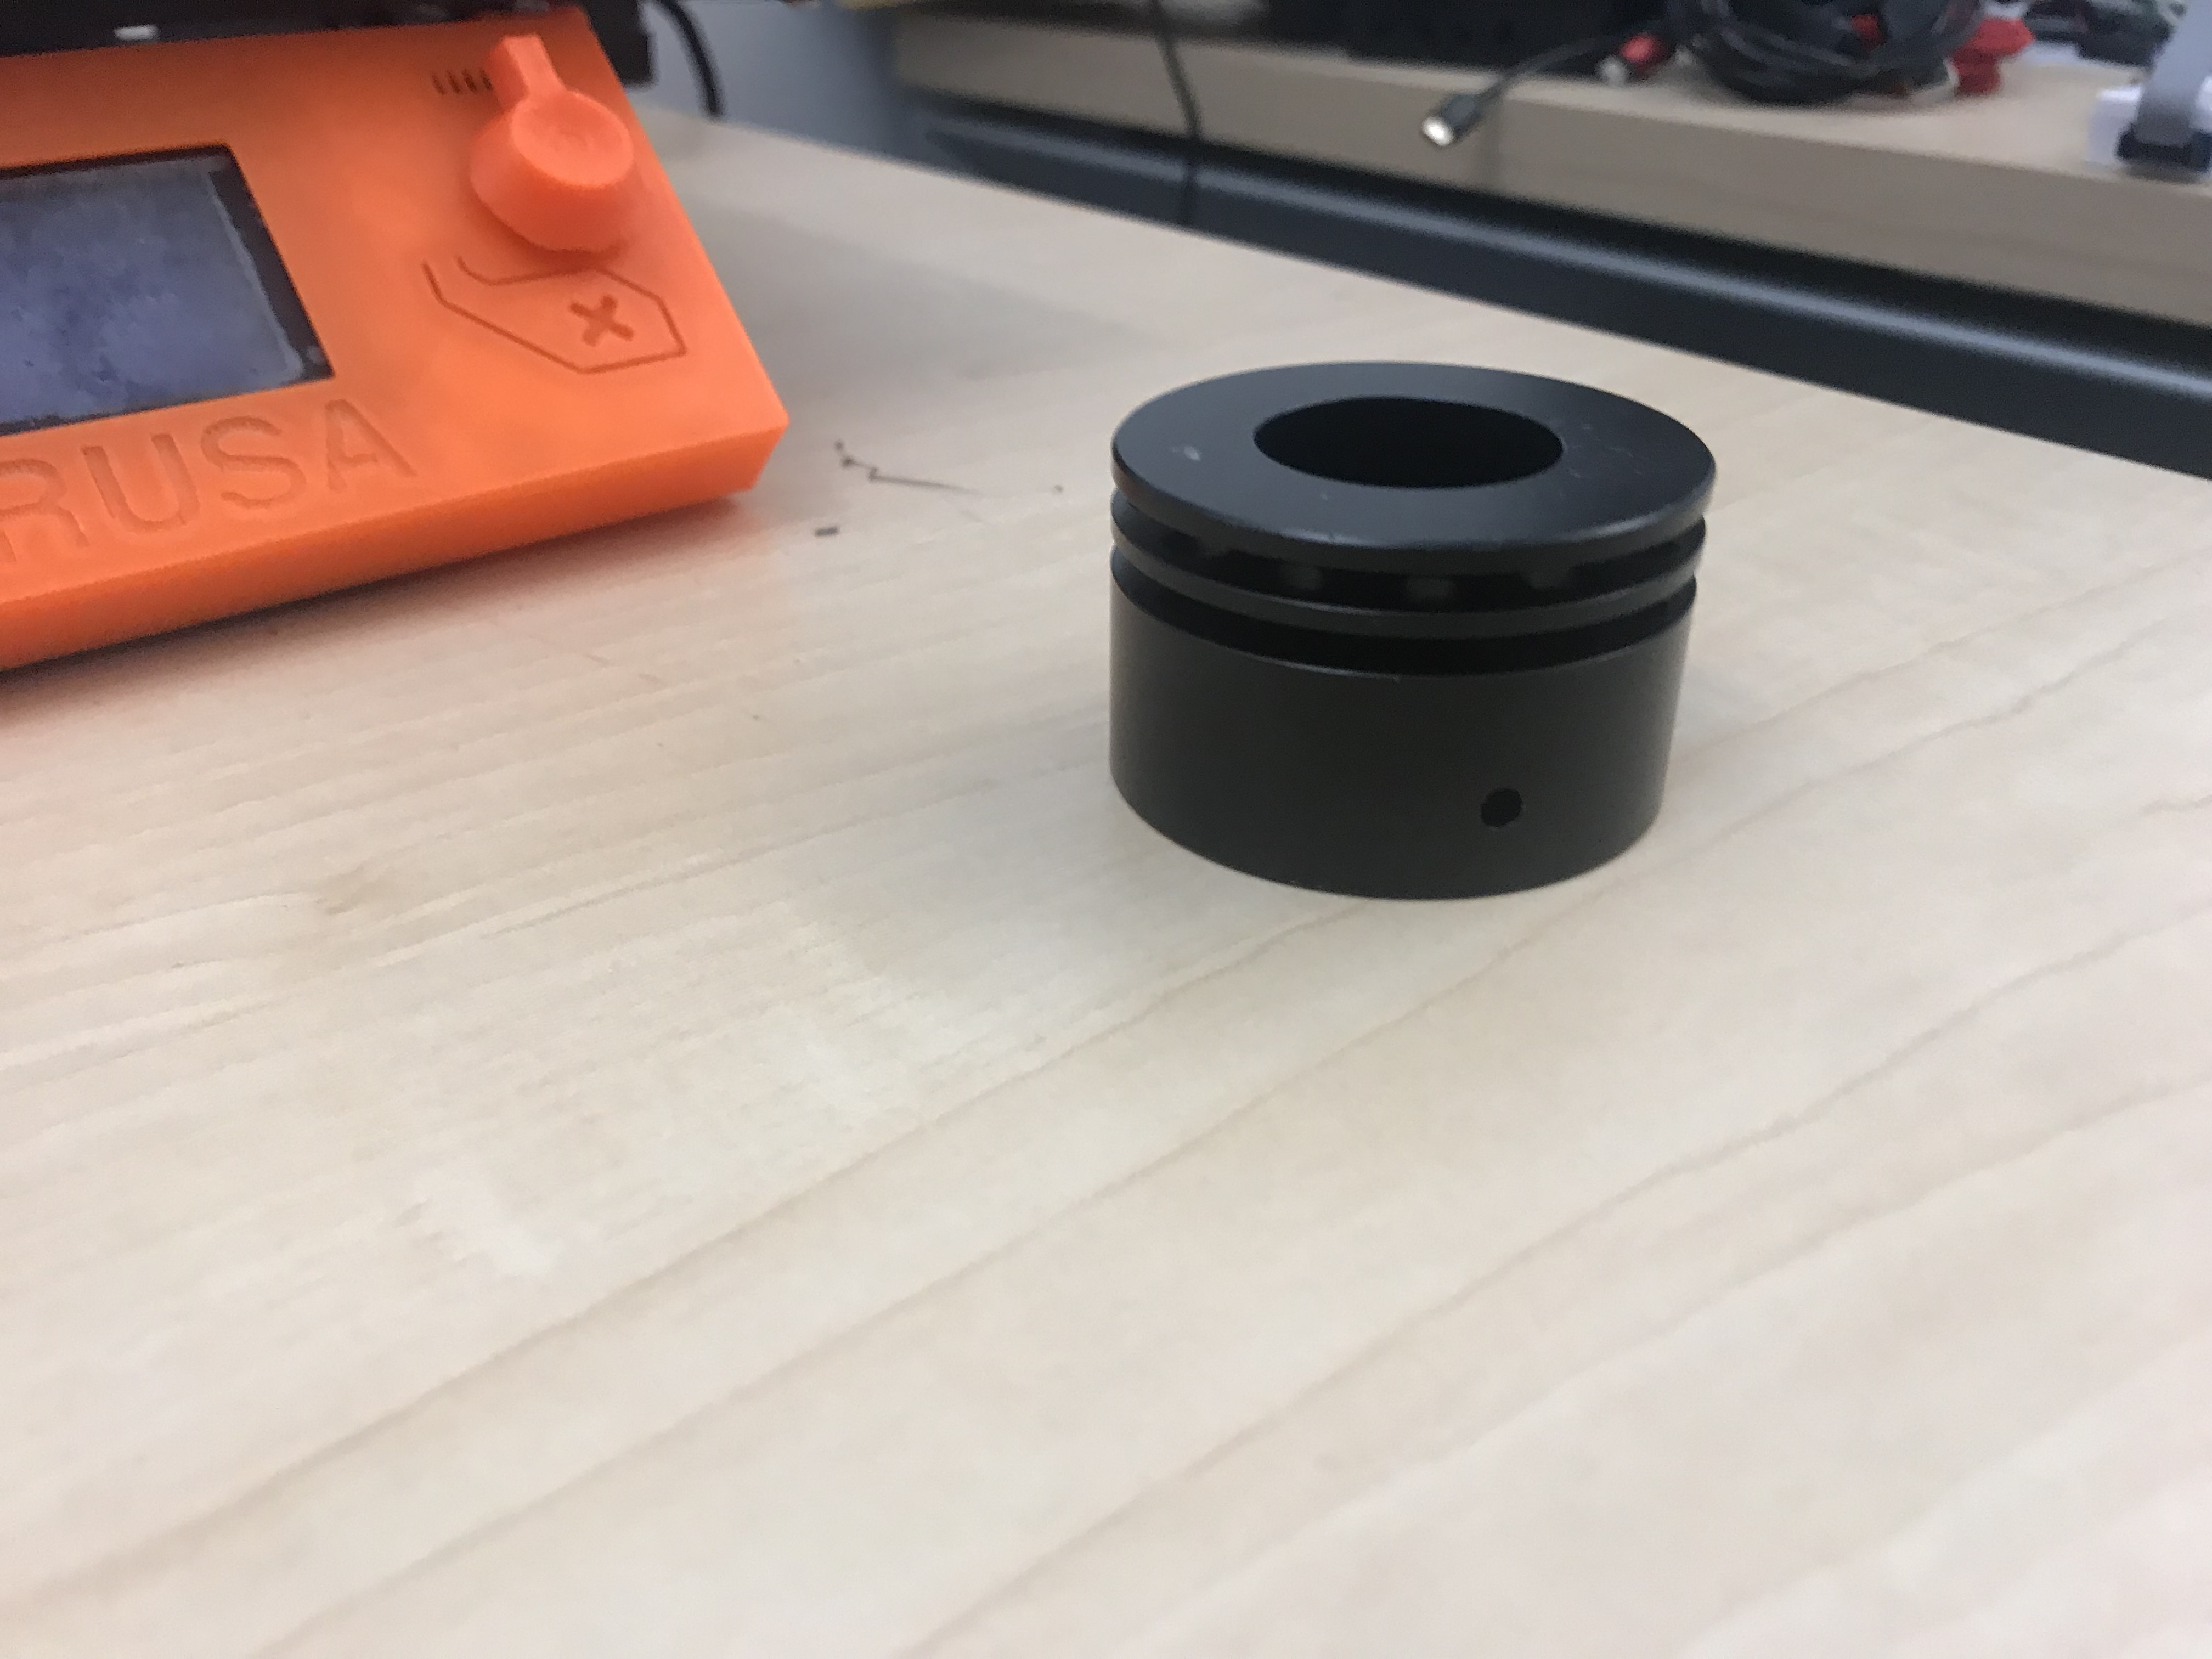pillar1: (1101, 350, 1723, 913)
